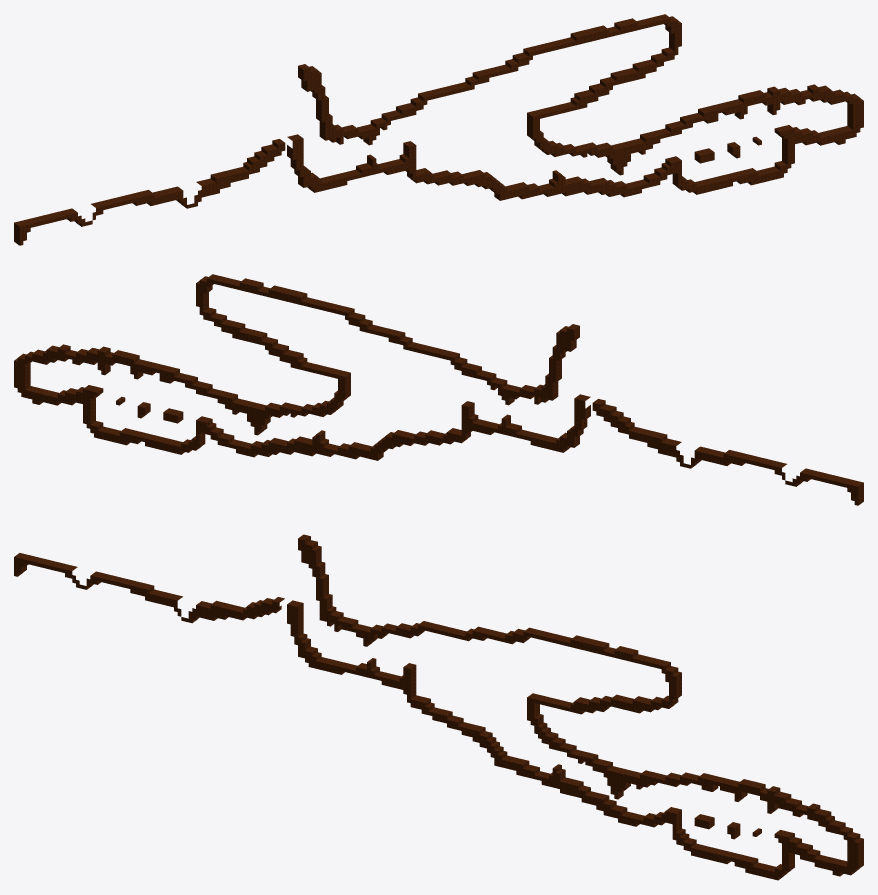
File: EndRoom2BasePiso-62d9591b1965.glb
3 renders of one model, top to bottom at view 1: azimuth 30°, elevation 25°; view 2: azimuth 150°, elevation 25°; view 3: azimuth 330°, elevation 25°, orthographic.
Parts seen in each view (by area): view 1: Setor_5, Setor_4, Setor_6, Setor_2, Setor_3, Setor_1, Setor_0, Setor_7; view 2: Setor_5, Setor_4, Setor_6, Setor_2, Setor_3, Setor_1, Setor_0, Setor_7; view 3: Setor_5, Setor_4, Setor_6, Setor_2, Setor_3, Setor_1, Setor_0, Setor_7.
Boxes of the visible parts, left/top/right/bottom form: Setor_5: left=596, top=14, right=718, bottom=197; Setor_4: left=480, top=27, right=601, bottom=200; Setor_6: left=713, top=84, right=834, bottom=189; Setor_2: left=247, top=64, right=368, bottom=192; Setor_3: left=363, top=71, right=485, bottom=187; Setor_1: left=131, top=162, right=252, bottom=208; Setor_0: left=14, top=194, right=136, bottom=245; Setor_7: left=829, top=89, right=863, bottom=144; Setor_5: left=159, top=274, right=281, bottom=457; Setor_4: left=276, top=287, right=397, bottom=460; Setor_6: left=43, top=344, right=164, bottom=449; Setor_2: left=509, top=324, right=630, bottom=452; Setor_3: left=392, top=331, right=514, bottom=447; Setor_1: left=625, top=422, right=746, bottom=468; Setor_0: left=741, top=454, right=863, bottom=505; Setor_7: left=14, top=349, right=48, bottom=404; Setor_5: left=596, top=641, right=717, bottom=860; Setor_4: left=479, top=627, right=601, bottom=805; Setor_6: left=712, top=776, right=834, bottom=880; Setor_2: left=247, top=534, right=368, bottom=676; Setor_3: left=363, top=621, right=484, bottom=742; Setor_1: left=130, top=581, right=246, bottom=623; Setor_0: left=14, top=553, right=135, bottom=589; Setor_7: left=829, top=816, right=863, bottom=876.
Bounding box in the file's own units: 241 × 61.36 × 2.84.
1 material, 1 textured.
